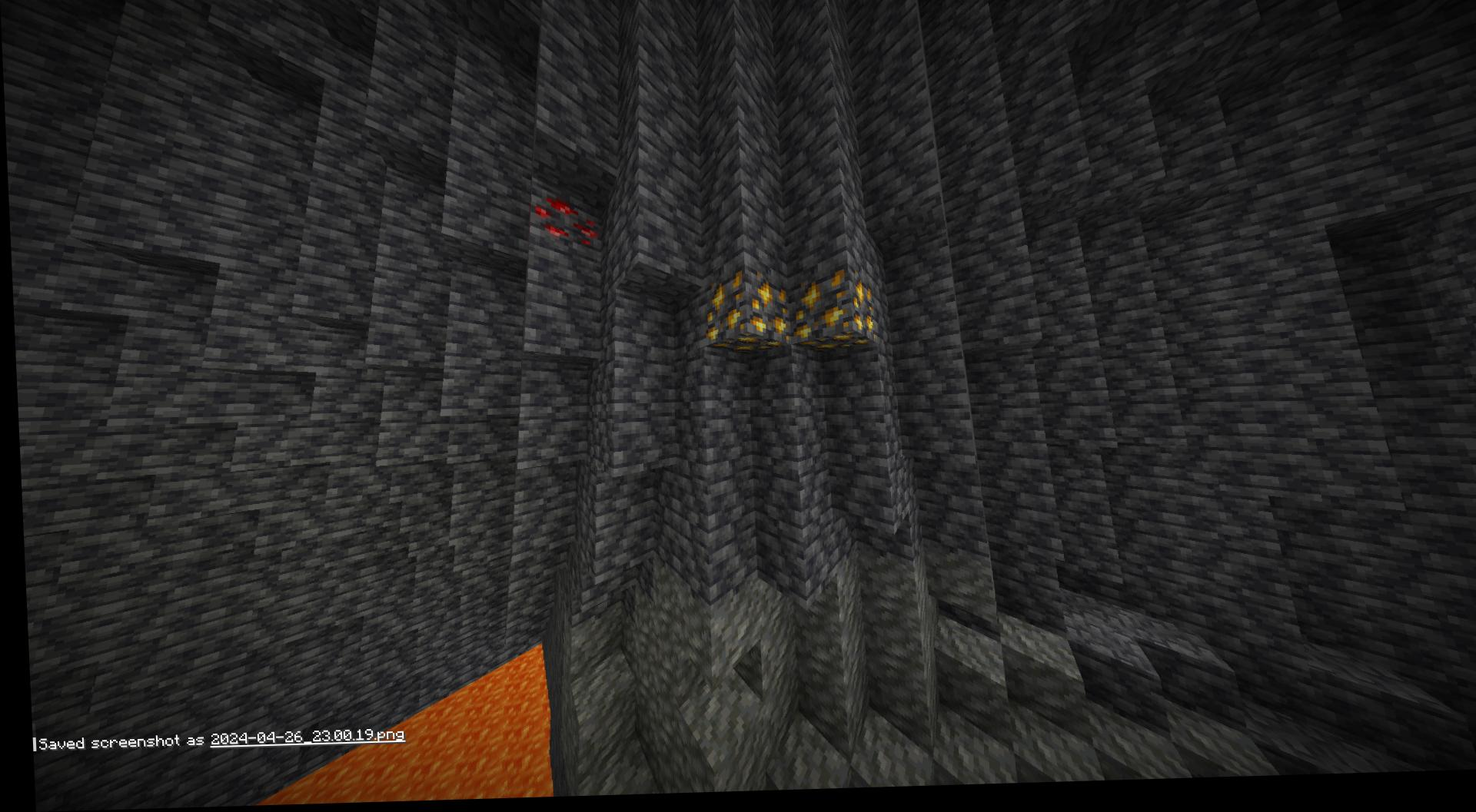gold ore: (792, 274, 842, 337), (703, 275, 744, 344), (745, 280, 788, 343), (844, 280, 875, 338)
redstone ore: (530, 194, 600, 257)
